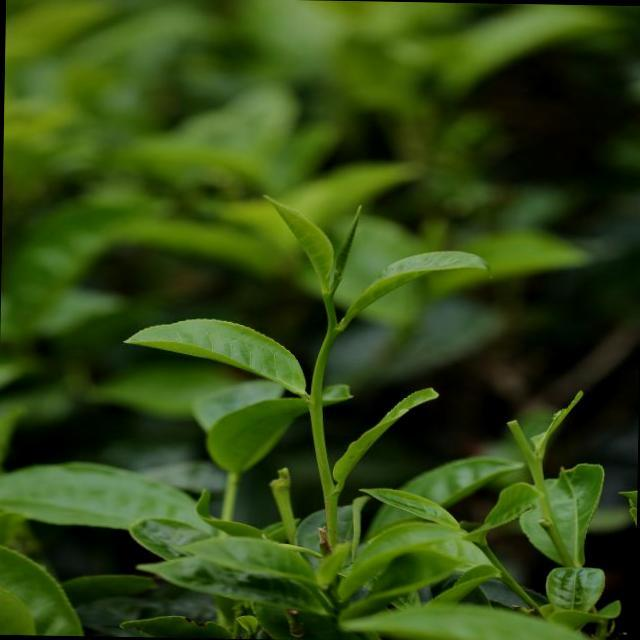Stem: (329, 324, 341, 333)
